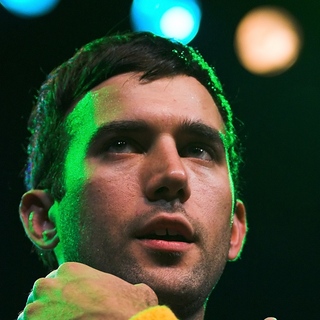eye: (103, 132, 145, 158), (181, 138, 219, 163)
